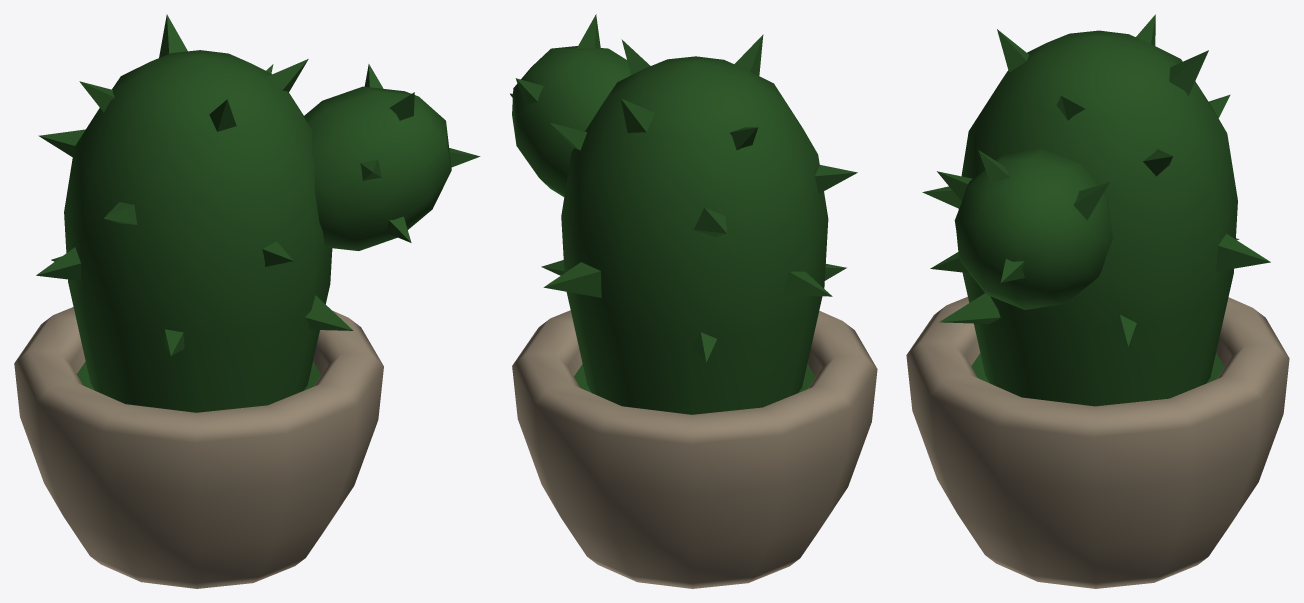
3 renders of one model, left to right at view 1: azimuth 30°, elevation 25°; view 2: azimuth 150°, elevation 25°; view 3: azimuth 270°, elevation 25°, orthographic. The views are drawn at different scales.
Visible parts, largest first — view 1: flower.044; view 2: flower.044; view 3: flower.044.
Boxes of the visible parts, x1,y1,x2,y2 form: flower.044: (14, 14, 480, 588); flower.044: (510, 14, 877, 588); flower.044: (906, 14, 1289, 588).
Size of the model in its own units: 0.3307 by 0.388 by 0.2684.
